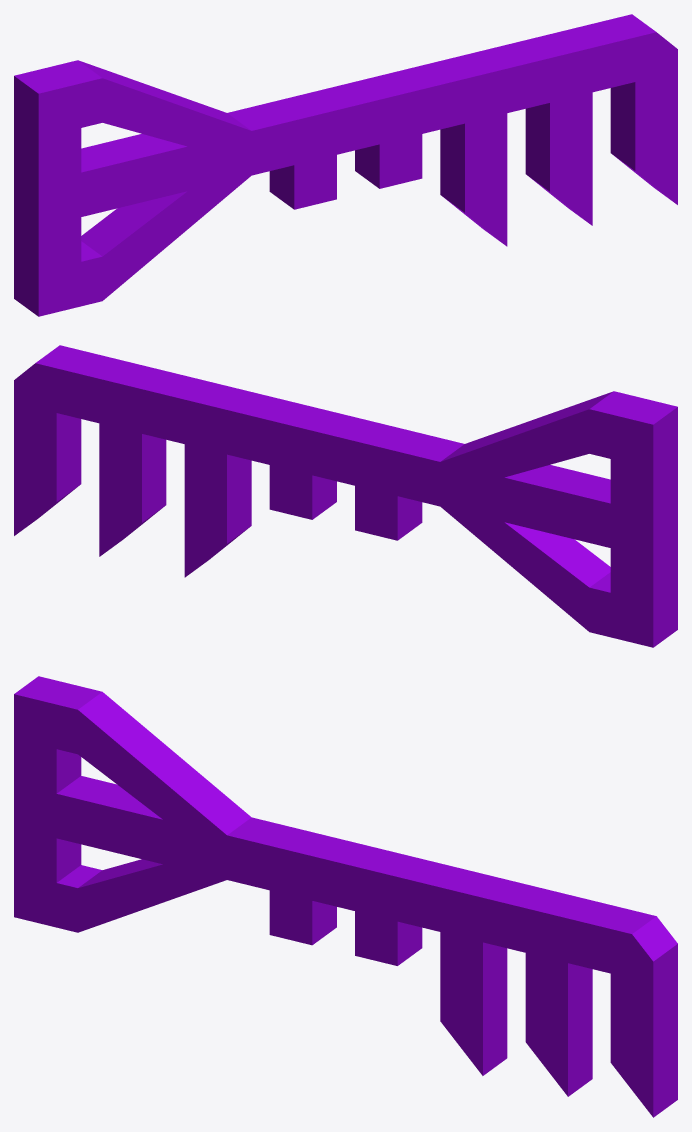
File: Items.fbx_Key_30.fbx
3 renders of one model, top to bottom at view 1: azimuth 30°, elevation 25°; view 2: azimuth 150°, elevation 25°; view 3: azimuth 330°, elevation 25°, orthographic.
Parts seen in each view (by area): view 1: Key 30; view 2: Key 30; view 3: Key 30.
Part boxes in pixels (x1,y1,x2,y2): Key 30: (14,14,677,316); Key 30: (14,345,677,647); Key 30: (14,676,677,1117).
Bounding box in the file's own units: 0.3 × 0.12 × 0.02.
